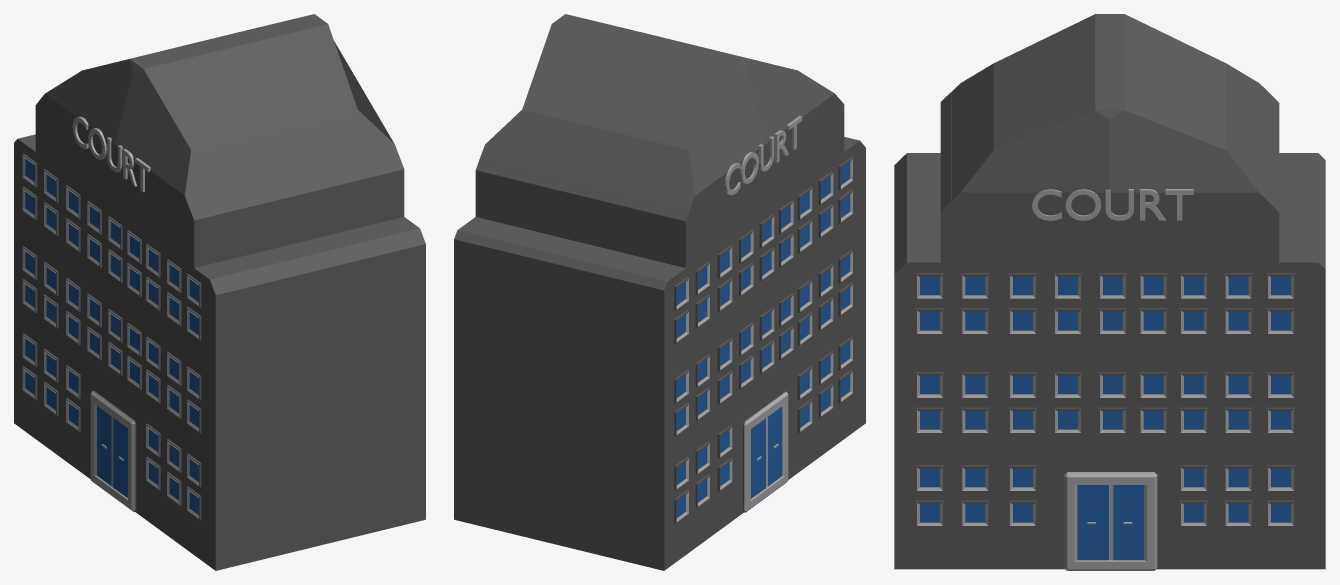
Rendered from COURT_Material.012.glb.
3 views of the same model, side by side, from view 1: azimuth 30°, elevation 25°; view 2: azimuth 150°, elevation 25°; view 3: azimuth 270°, elevation 25° (orthographic). The views are drawn at different scales.
Parts seen in each view (by area): view 1: COURT_Material.012_0; view 2: COURT_Material.012_0; view 3: COURT_Material.012_0.
Boxes of the visible parts, left/top/right/bottom form: COURT_Material.012_0: left=14, top=14, right=425, bottom=570; COURT_Material.012_0: left=454, top=14, right=865, bottom=570; COURT_Material.012_0: left=894, top=14, right=1325, bottom=570.
Bounding box in the file's own units: 2.35 × 4.4 × 3.76.
1 material, 1 textured.
